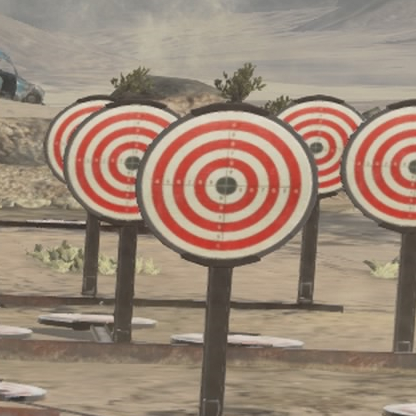target: (138, 106, 315, 263), (65, 101, 143, 221), (343, 104, 416, 229)
